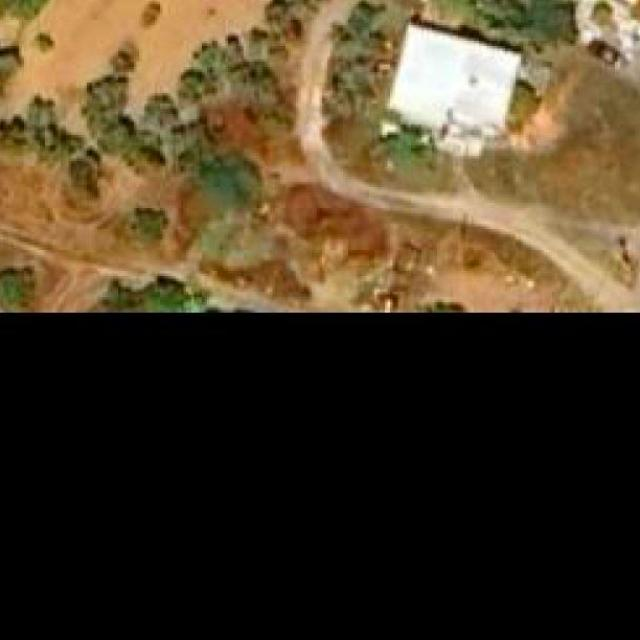Tree: (80, 75, 126, 117), (68, 148, 108, 194), (0, 262, 35, 312), (126, 201, 172, 235), (144, 93, 179, 128), (176, 67, 212, 101), (100, 117, 132, 149), (32, 34, 56, 54)
